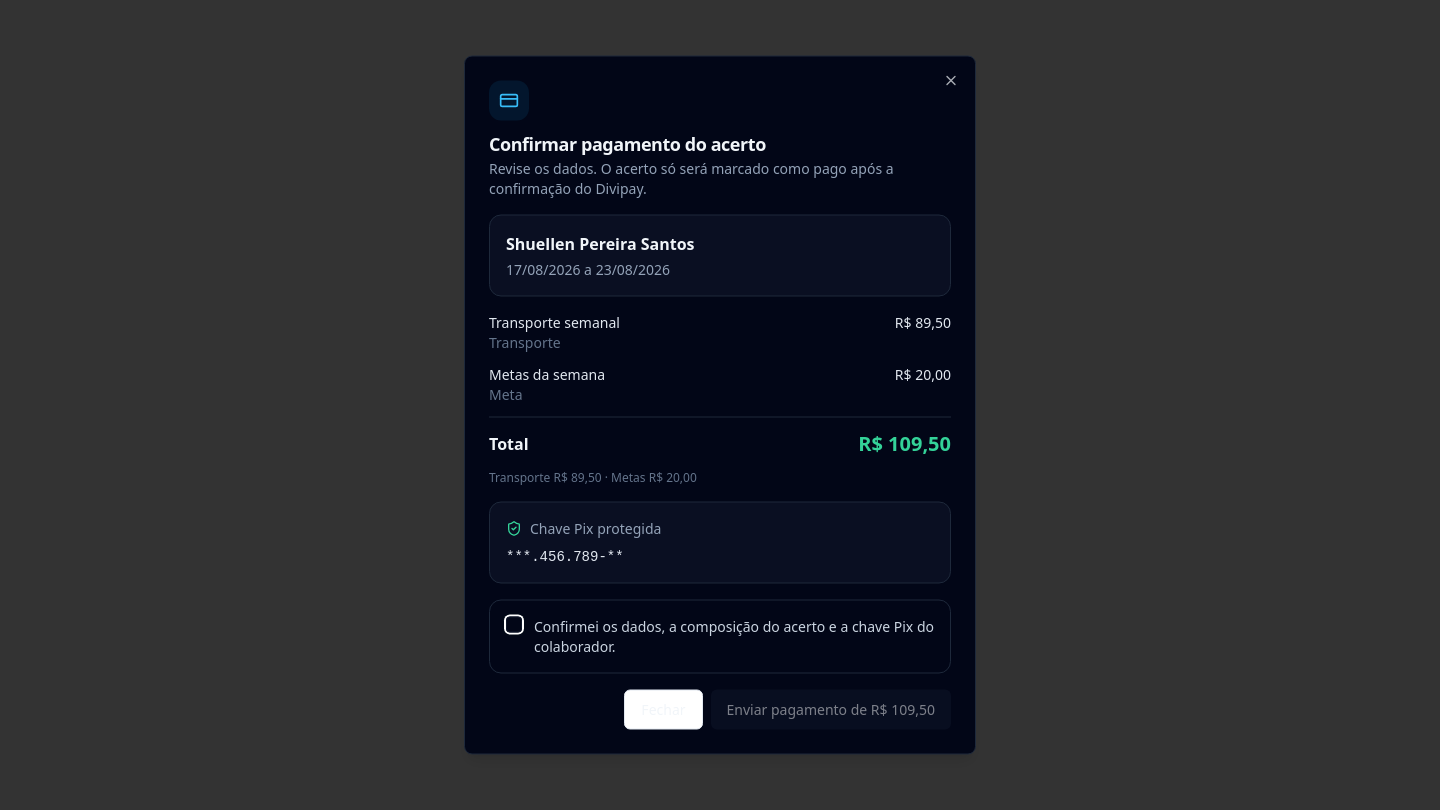
Test case: AcertoPaymentDialog › registra falha do provedor sem marcar o acerto como pago
Click the checkbox named "confirmei os dados".
click(514, 624)  # box [506, 616, 522, 632]
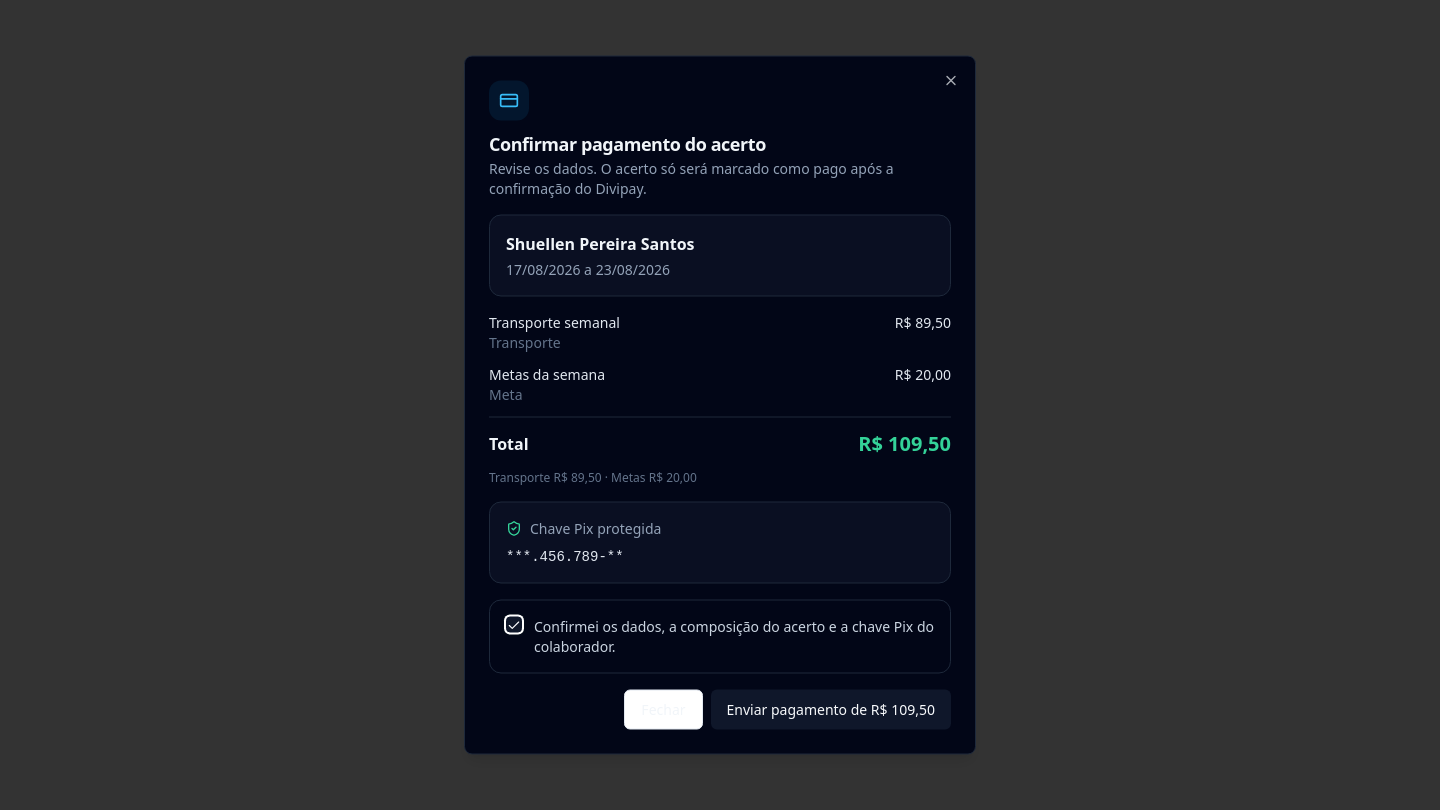
Click the button "Enviar pagamento de R$ 109,50".
click(831, 710)  # box [710, 690, 951, 730]
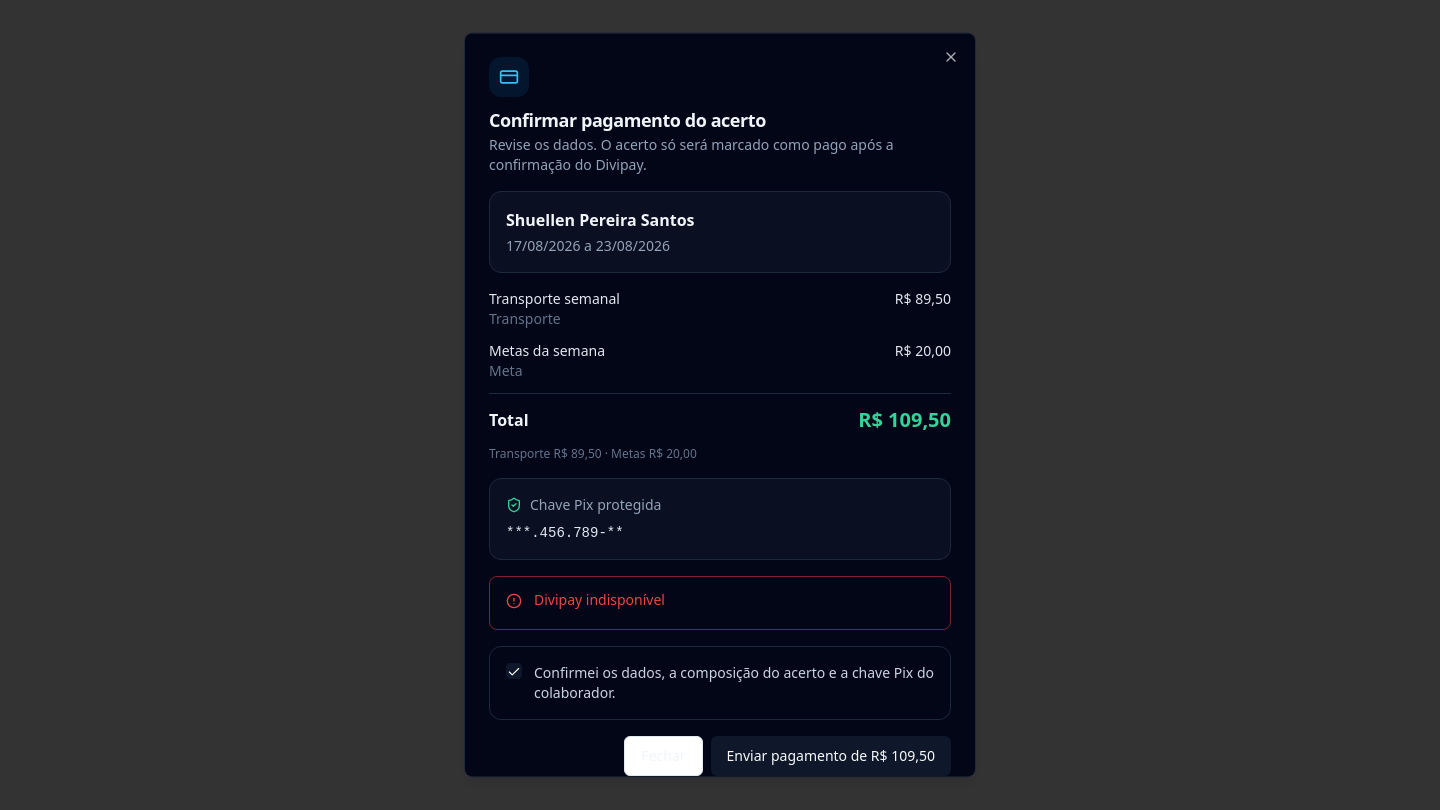
Expected: the message reads "Divipay indisponível", [534, 590, 665, 609]
